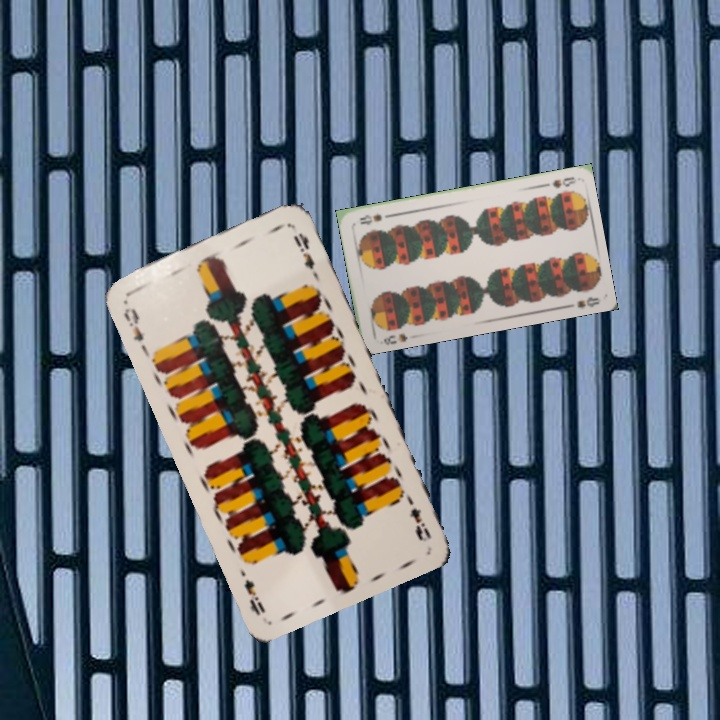E9: (398, 491, 434, 545), (119, 303, 146, 345)
S8: (537, 173, 578, 191), (379, 329, 411, 347)
